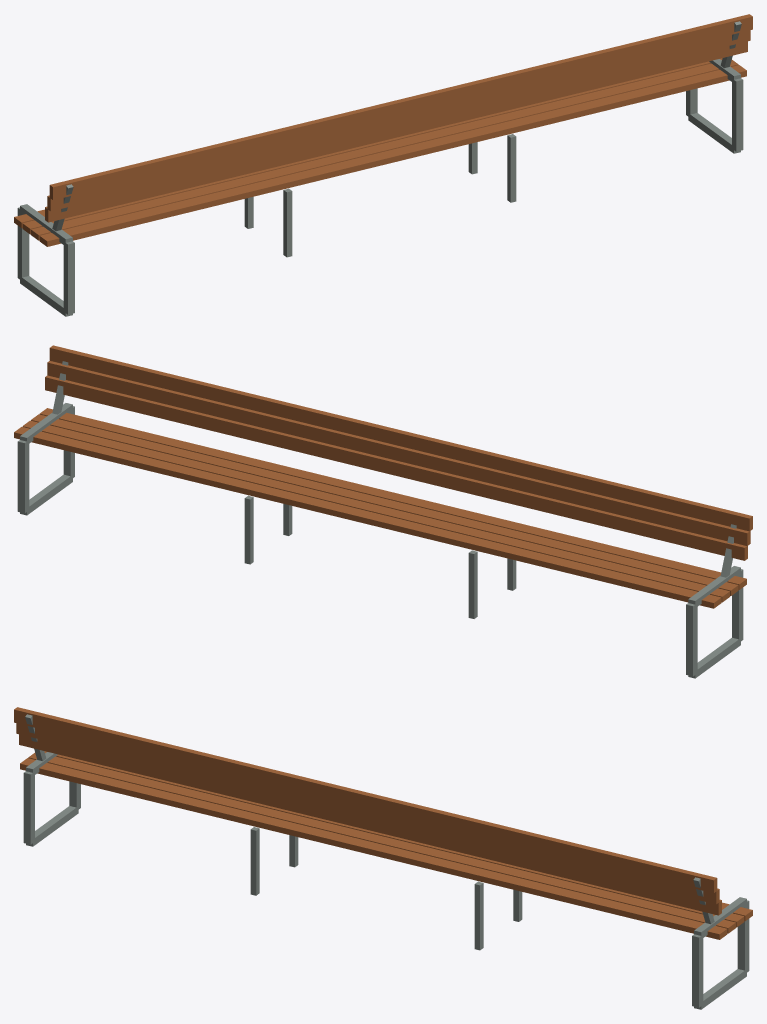
3 views of the same model, one above another, from view 1: azimuth 30°, elevation 25°; view 2: azimuth 150°, elevation 25°; view 3: azimuth 330°, elevation 25° (orthographic).
Parts seen in each view (by area): view 1: SW-L507; view 2: SW-L507; view 3: SW-L507.
Part boxes in pixels (x1,y1,x2,y2): SW-L507: (14, 14, 752, 316); SW-L507: (14, 345, 752, 678); SW-L507: (14, 707, 752, 1009).
Bounding box in the file's own units: 4.43 × 0.8 × 0.55.
